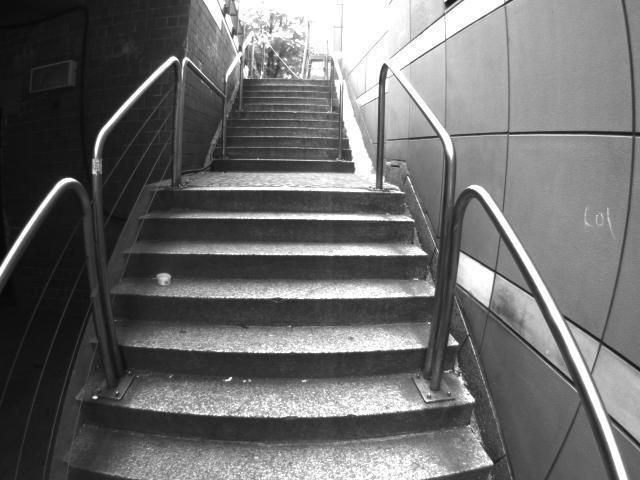Escaleras: (75, 190, 487, 479), (196, 74, 364, 169)
